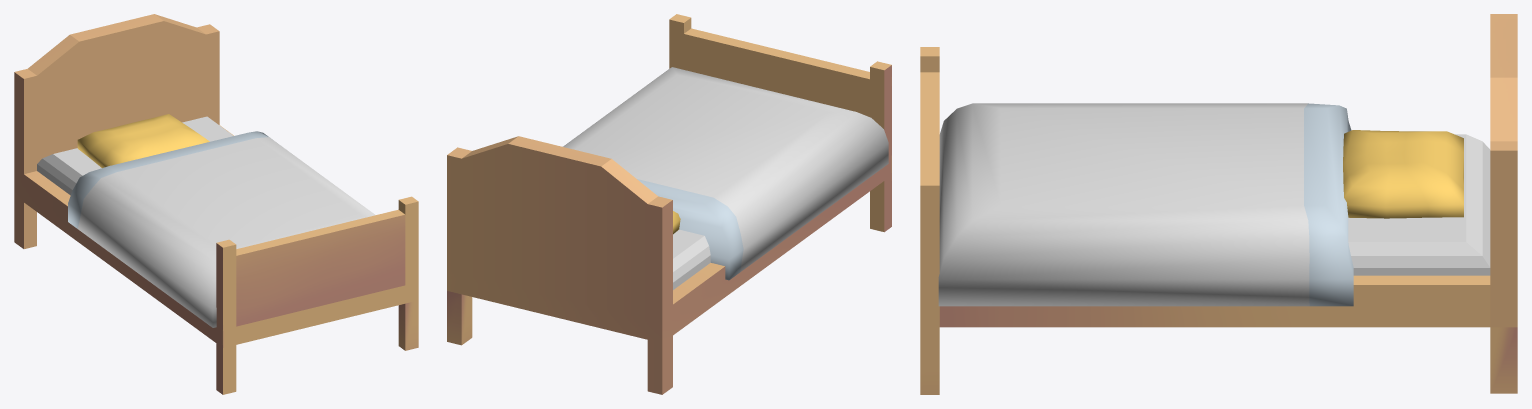
File: Lit ok.fbx
3 views of the same model, side by side, from view 1: azimuth 30°, elevation 25°; view 2: azimuth 150°, elevation 25°; view 3: azimuth 270°, elevation 25° (orthographic). The views are drawn at different scales.
Visible parts, largest first — view 1: Cube; view 2: Cube; view 3: Cube.
Boxes of the visible parts, <box> form: Cube: <box>14,14,418,394</box>; Cube: <box>447,14,891,394</box>; Cube: <box>920,14,1517,394</box>.
Size of the model in its own units: 444 by 408 by 794.
